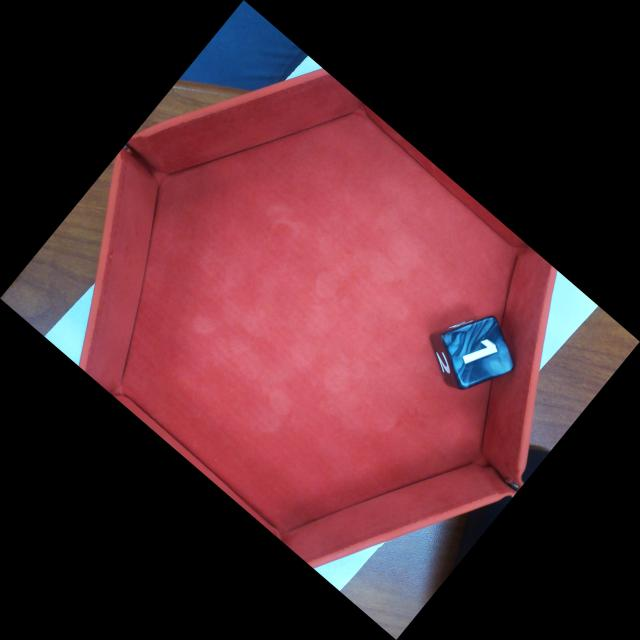dice: (440, 314, 518, 393)
